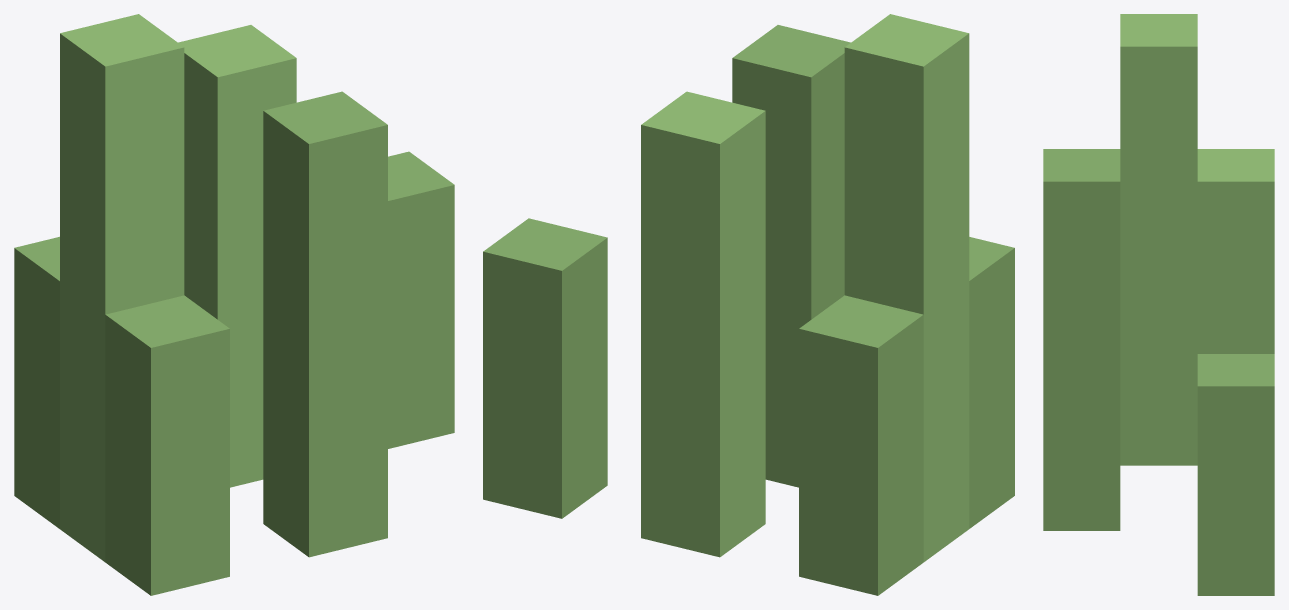
Rendered from hierba_corta_03.glb.
The picture shows the model from 3 angles, left to right: view 1: azimuth 30°, elevation 25°; view 2: azimuth 150°, elevation 25°; view 3: azimuth 270°, elevation 25°; orthographic projection. The views are drawn at different scales.
Visible parts, largest first — view 1: hierba_corta_03; view 2: hierba_corta_03; view 3: hierba_corta_03.
Part boxes in pixels (box(x1,y1,x2,y2)): hierba_corta_03: box(14, 14, 454, 595); hierba_corta_03: box(483, 14, 1014, 595); hierba_corta_03: box(1043, 14, 1274, 595).
Size of the model in its own units: 0.5 by 0.6 by 0.3.
